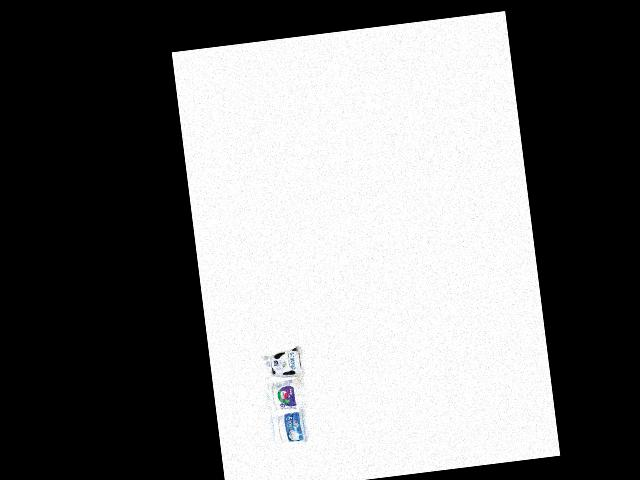cotage: (273, 407, 312, 446)
